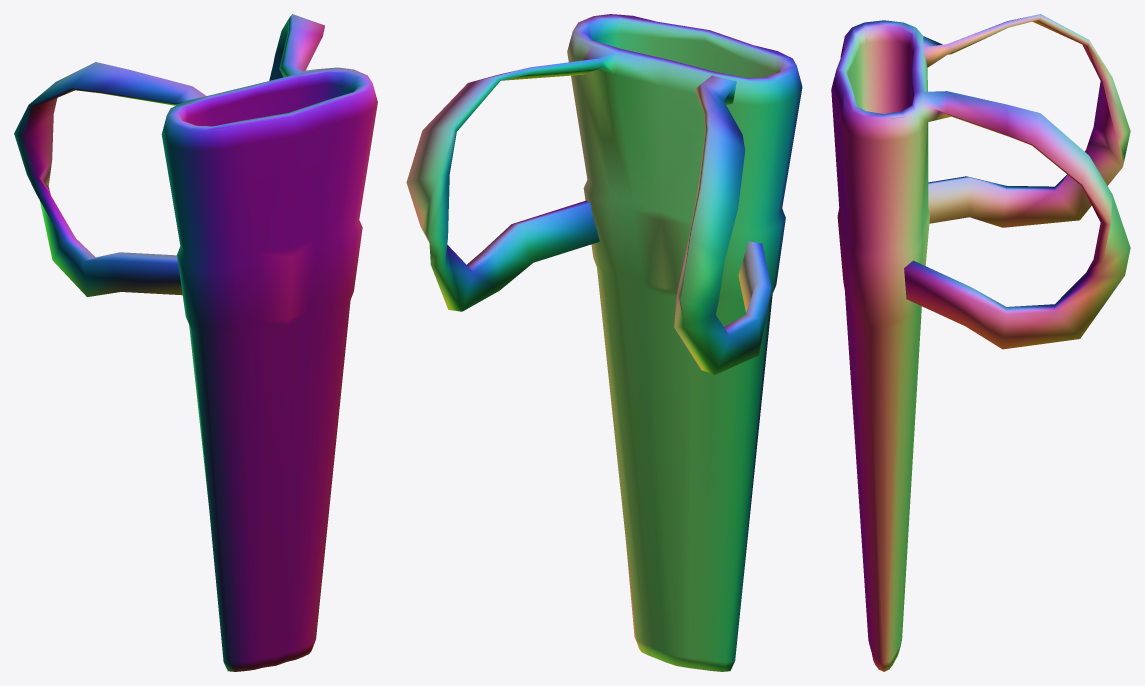
The model's file is Quiver.obj.
The picture shows the model from 3 angles, left to right: view 1: azimuth 30°, elevation 25°; view 2: azimuth 150°, elevation 25°; view 3: azimuth 270°, elevation 25°; orthographic projection. The views are drawn at different scales.
Visible parts, largest first — view 1: Cube; view 2: Cube; view 3: Cube.
Boxes of the visible parts, box(x1,y1,x2,y2) form: Cube: box(14, 14, 377, 671); Cube: box(406, 14, 802, 671); Cube: box(831, 14, 1130, 671).
Size of the model in its own units: 0.3394 by 0.6298 by 0.2908.
